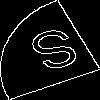S: (25, 25, 89, 82)
